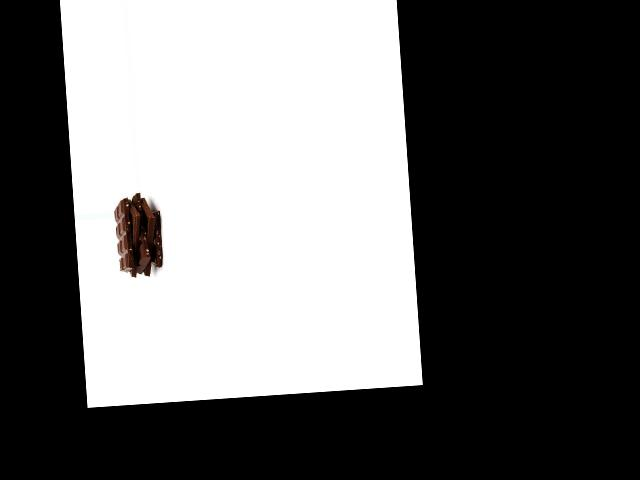chocolate: (132, 196, 168, 275)
